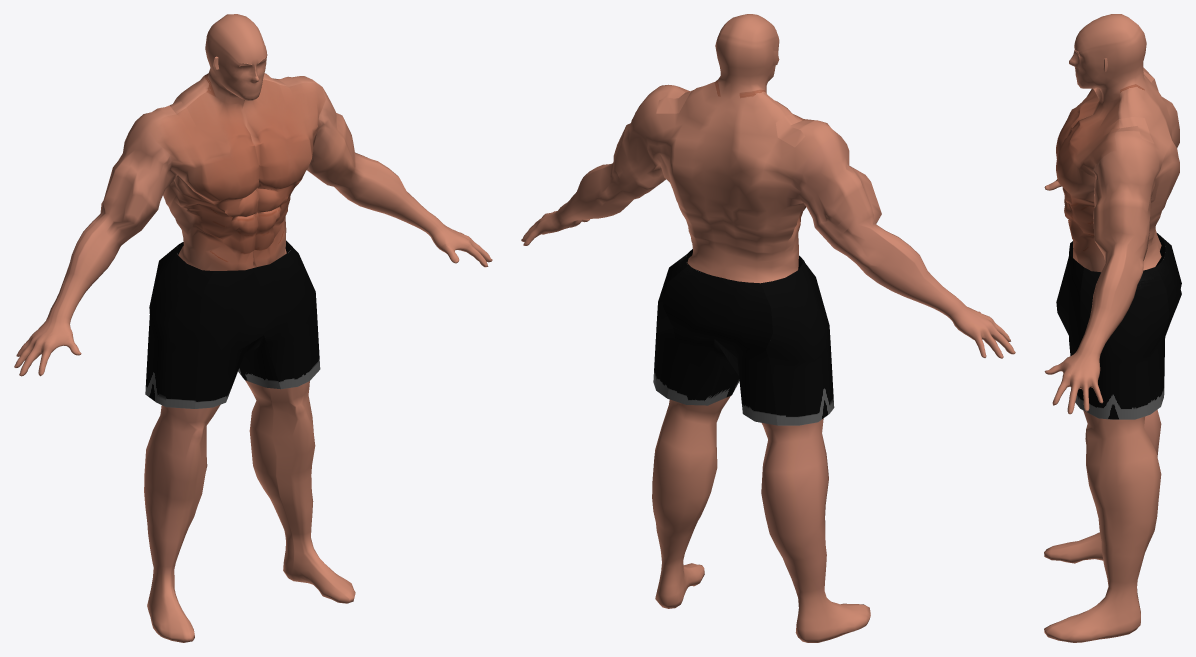
The model's file is mayone-zu.fbx.
3 renders of one model, left to right at view 1: azimuth 30°, elevation 25°; view 2: azimuth 150°, elevation 25°; view 3: azimuth 270°, elevation 25°, orthographic. The views are drawn at different scales.
Parts seen in each view (by area): view 1: otoko, pants; view 2: otoko, pants; view 3: otoko, pants.
Boxes of the visible parts, box(x1,y1,x2,y2) form: otoko: box(14, 14, 492, 642); pants: box(145, 240, 320, 408); otoko: box(521, 14, 1015, 642); pants: box(653, 249, 834, 425); otoko: box(1044, 14, 1179, 642); pants: box(1056, 233, 1181, 419).
Size of the model in its own units: 167 by 196 by 42.13.
2 materials, 2 textured.
